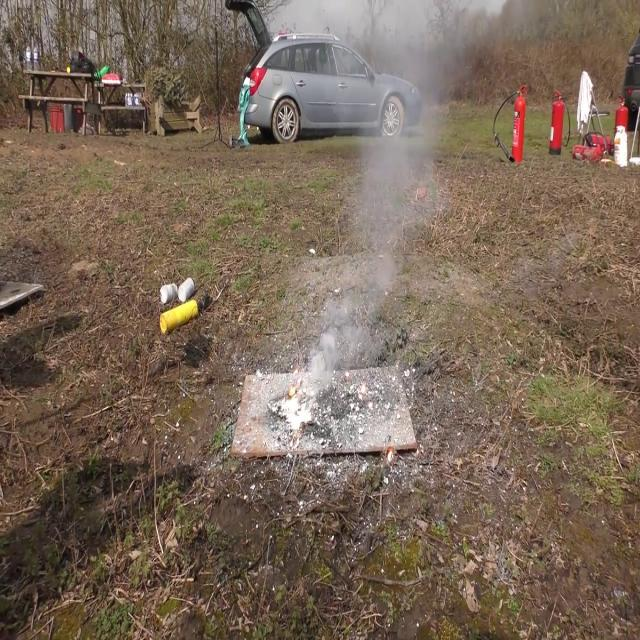Fire: (290, 328, 338, 434)
Smoke: (294, 4, 466, 424)
